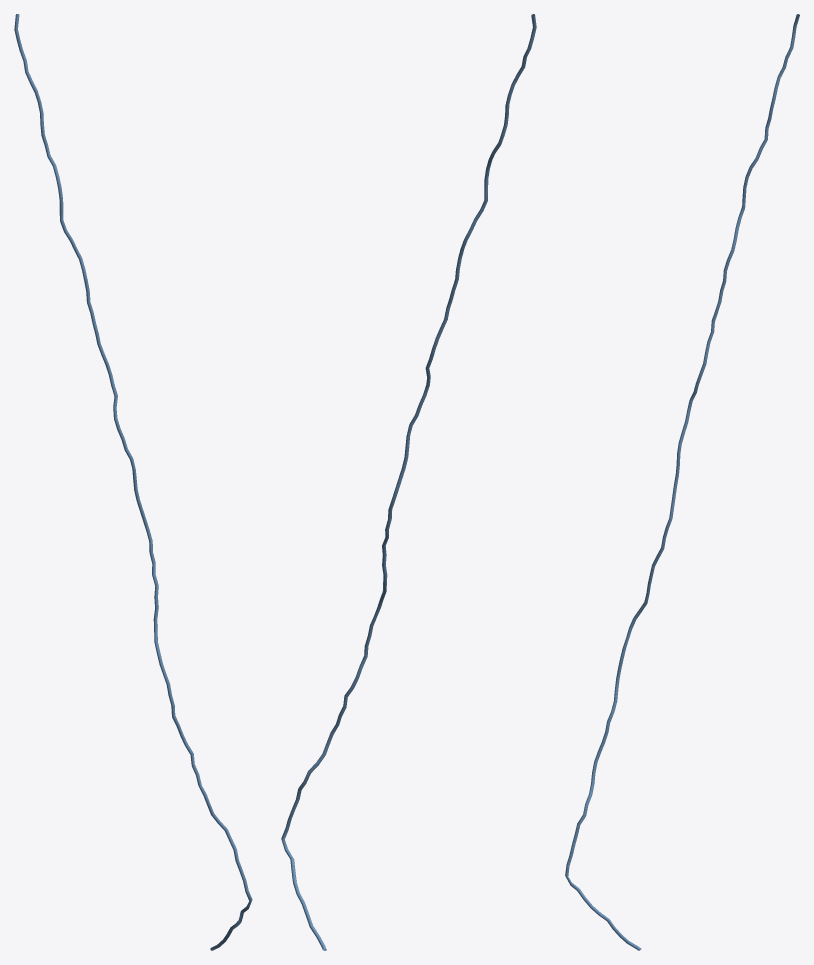
The model's file is sweep294.fbx.
The picture shows the model from 3 angles, left to right: view 1: azimuth 30°, elevation 25°; view 2: azimuth 210°, elevation 25°; view 3: azimuth 270°, elevation 25°; orthographic projection. The views are drawn at different scales.
Parts seen in each view (by area): view 1: sweep294; view 2: sweep294; view 3: sweep294.
Boxes of the visible parts, x1,y1,x2,y2 form: sweep294: (14, 14, 252, 950); sweep294: (281, 14, 536, 950); sweep294: (565, 14, 799, 950).
Bounding box in the file's own units: 0.7864 × 5.5 × 1.33.
